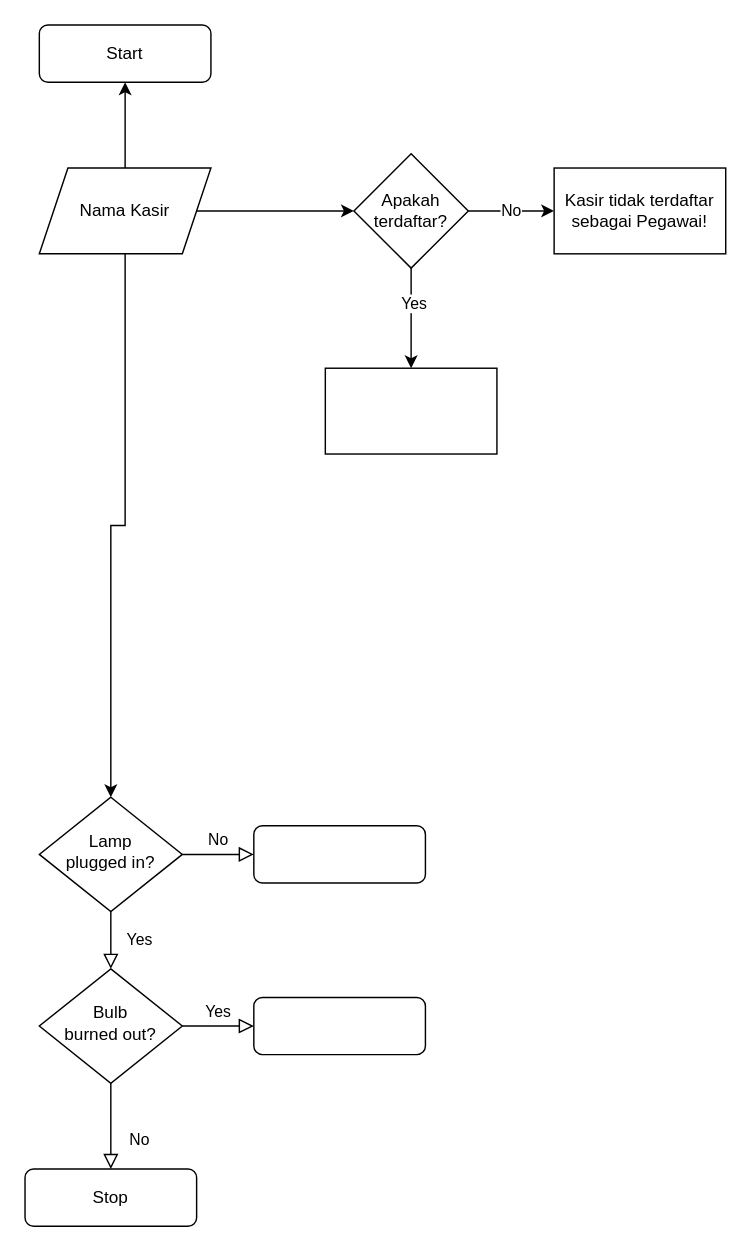
This 751x1251 diagram has some shape labels left out. The centre of each missing label's shape, as x and y in pixels:
"Plug in lamp" goes at point 338,853.
"Replace Bulb" goes at point 338,1025.
"Selamat datang ${namaKasir}" goes at point 410,410.
